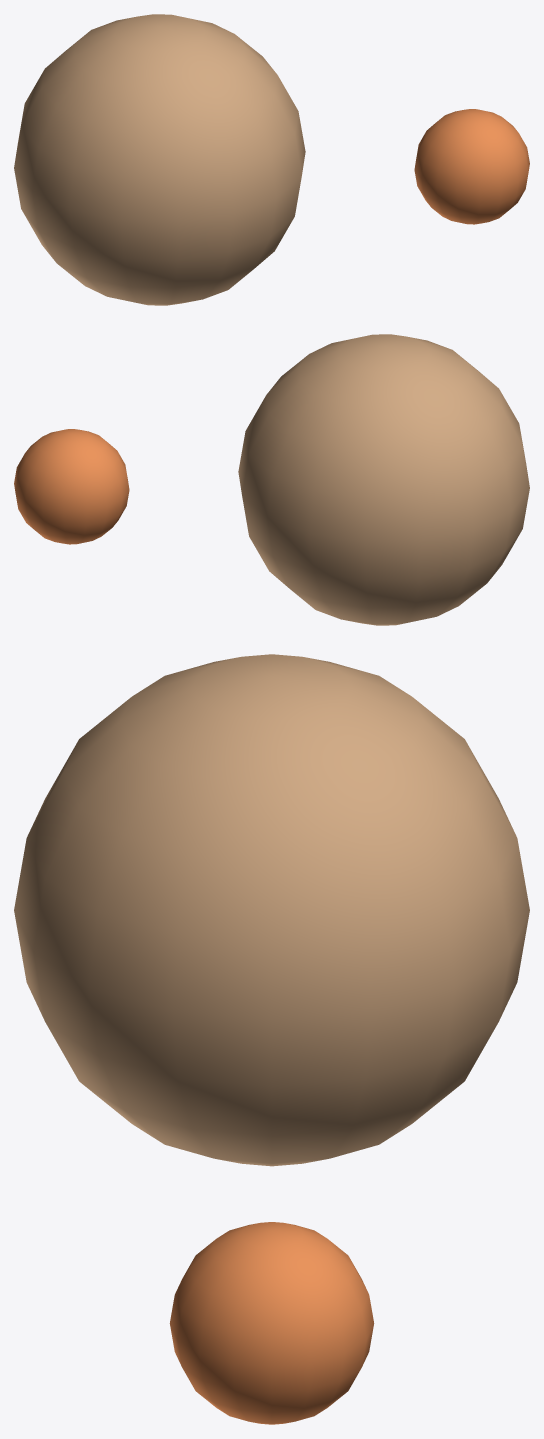
The model's file is ava-opposite-small.glb.
The picture shows the model from 3 angles, top to bottom: view 1: azimuth 30°, elevation 25°; view 2: azimuth 150°, elevation 25°; view 3: azimuth 270°, elevation 25°; orthographic projection. The views are drawn at different scales.
Parts seen in each view (by area): view 1: big ball, small ball; view 2: big ball, small ball; view 3: big ball, small ball.
Boxes of the visible parts, box(x1,y1,x2,y2) form: big ball: box(14, 14, 305, 305); small ball: box(414, 109, 529, 224); big ball: box(238, 334, 529, 625); small ball: box(14, 429, 129, 544); big ball: box(14, 654, 529, 1166); small ball: box(169, 1222, 374, 1424).
Bounding box in the file's own units: 2.04 × 1.07 × 1.06.
